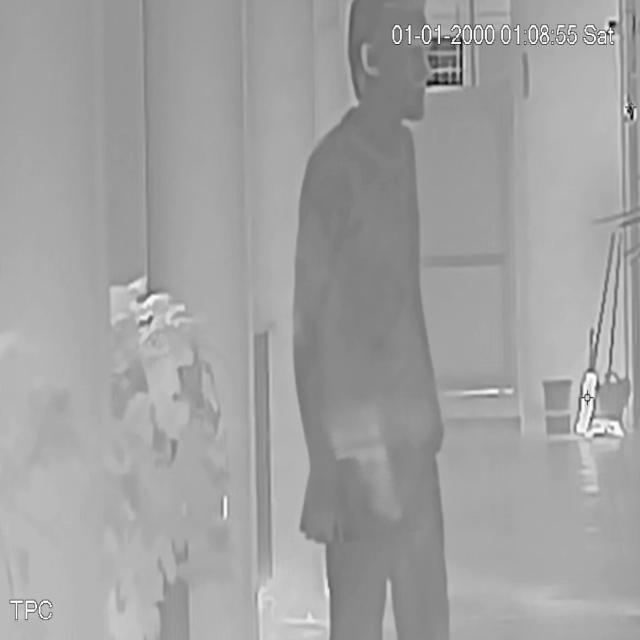Weapon: (326, 400, 420, 540)
